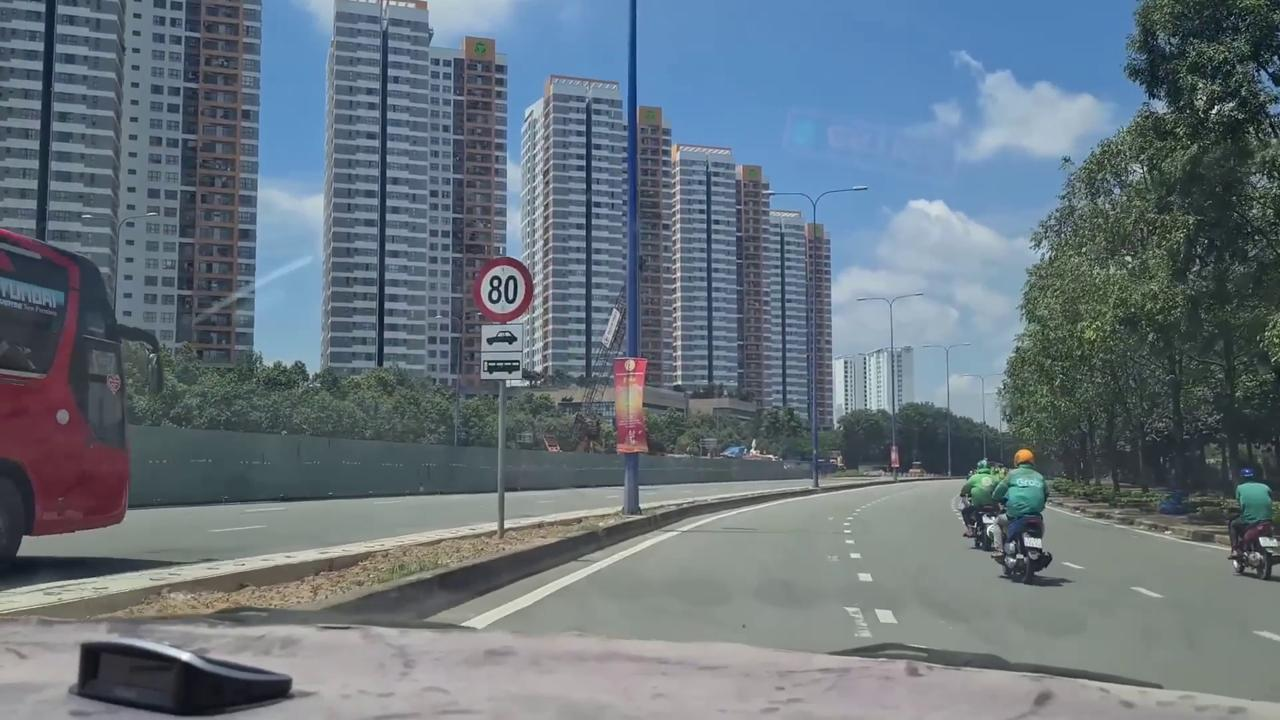Biển phụ: (479, 323, 524, 380)
Giới hạn tốc độ 80Km/h: (471, 255, 534, 324)
